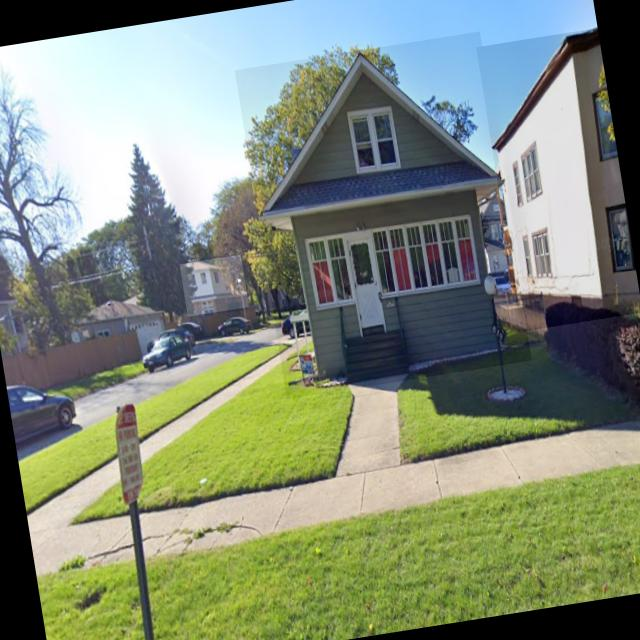House: (235, 32, 532, 399), (476, 28, 640, 332), (180, 254, 250, 316)
